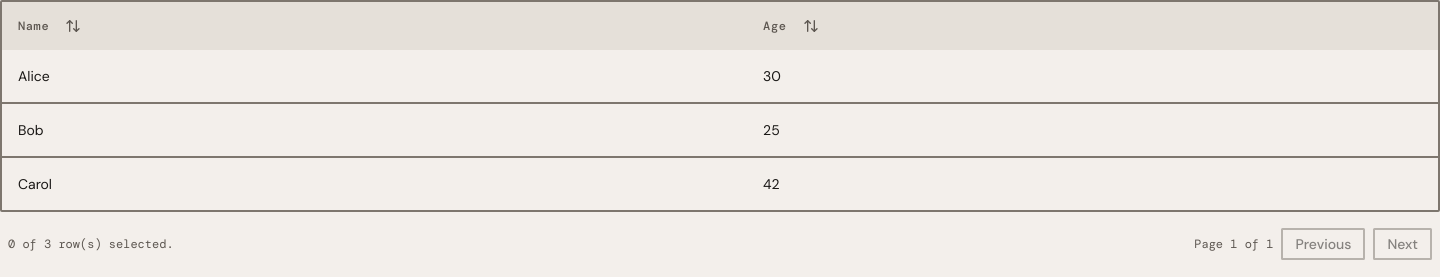
Test: DataTable › updates header aria-label to reflect current sort direction
Click the button with aria-label "Age, not sorted".
click(791, 26)  # box left=751, top=10, right=830, bottom=42
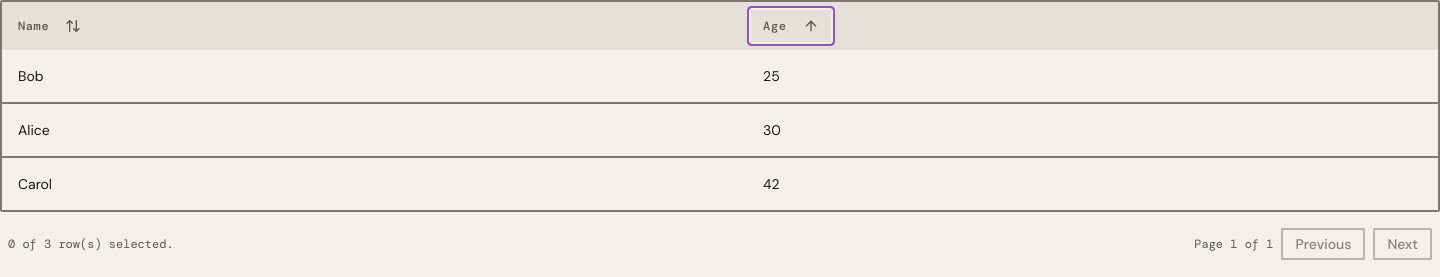
Now the button with aria-label "Age, sorted ascending" is shown, box left=751, top=10, right=830, bottom=42
